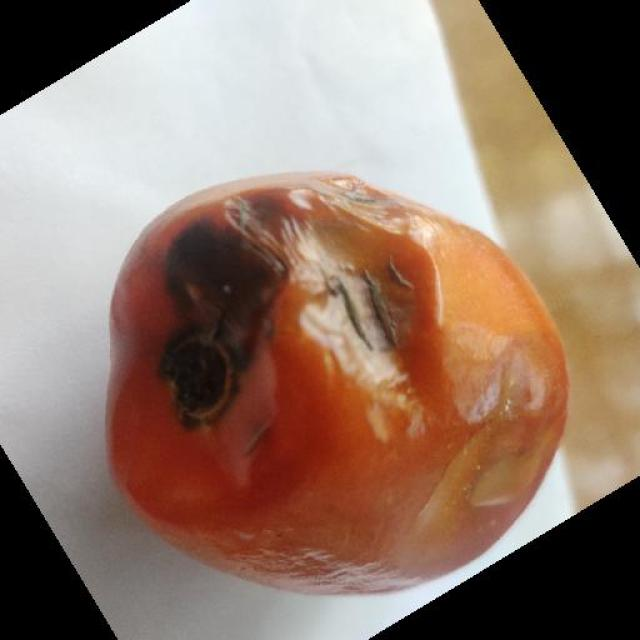Stale_tomato: (112, 196, 560, 600)
